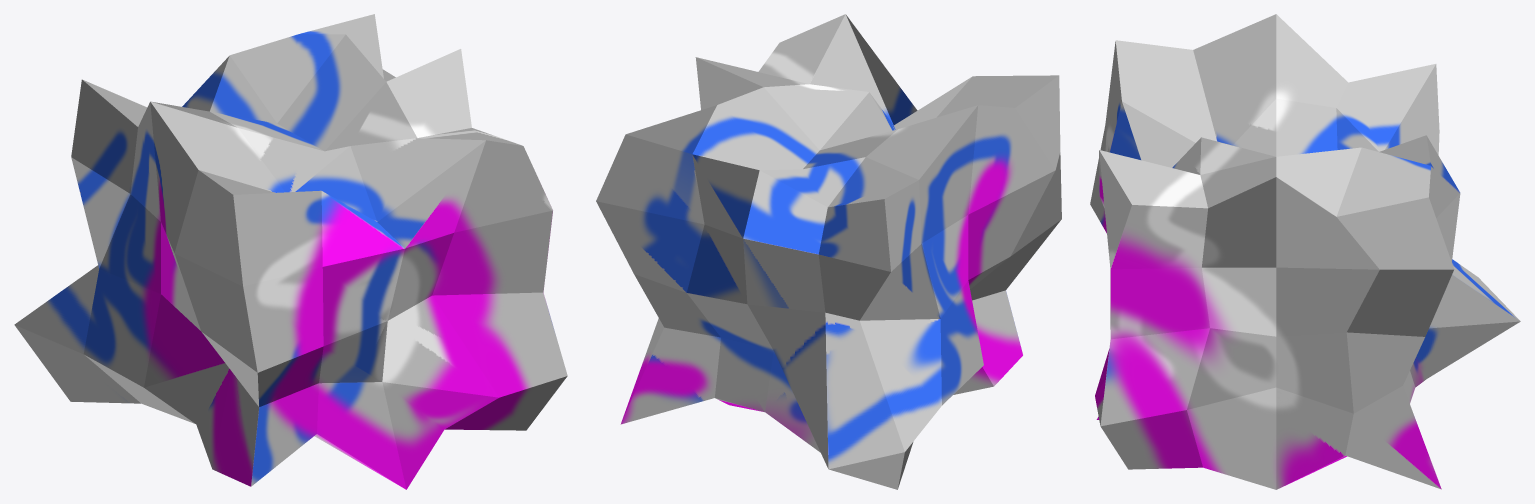
File: kuba.gltf
3 renders of one model, left to right at view 1: azimuth 30°, elevation 25°; view 2: azimuth 150°, elevation 25°; view 3: azimuth 270°, elevation 25°, orthographic. The views are drawn at different scales.
Parts seen in each view (by area): view 1: Cube; view 2: Cube; view 3: Cube.
Boxes of the visible parts, x1,y1,x2,y2 form: Cube: (14,14,567,489); Cube: (596,14,1061,489); Cube: (1090,14,1520,489).
Size of the model in its own units: 2.61 by 2.52 by 2.9.
1 material, 1 textured.
